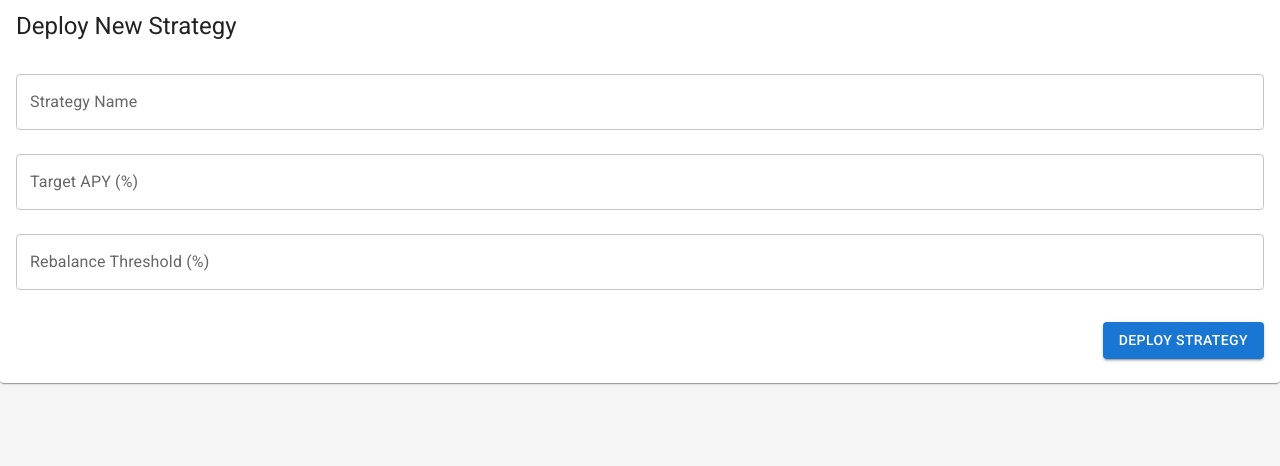
Test: Strategy Component › should validate numeric fields
This screenshot has width=1280, height=466.
In the field labelled "Strategy Name": {"x": 640, "y": 102} [16,74,1264,130], type "Test Strategy"
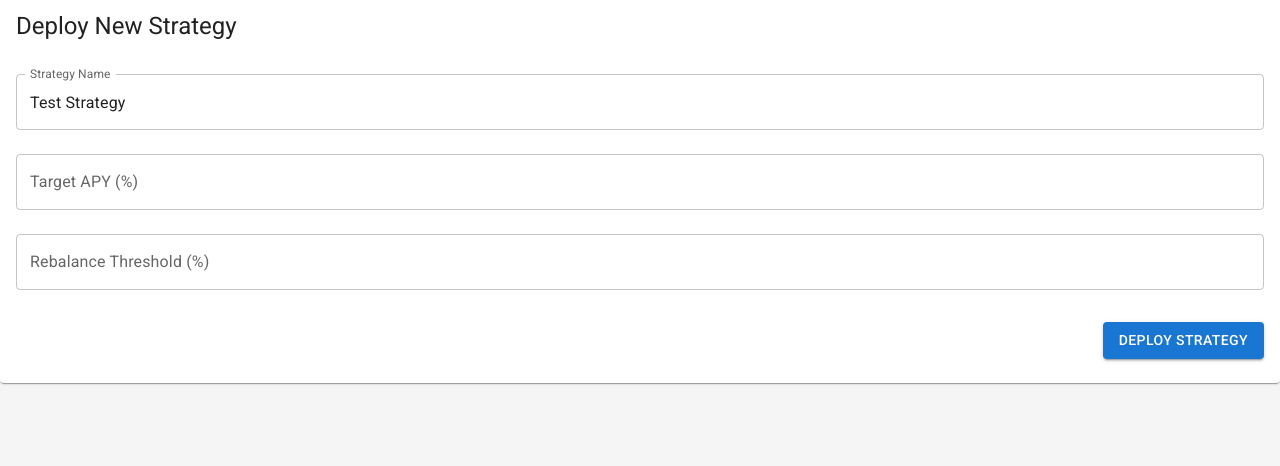
In the number field labelled "Target APY (%)": {"x": 640, "y": 182} [16,154,1264,210], type "-5"
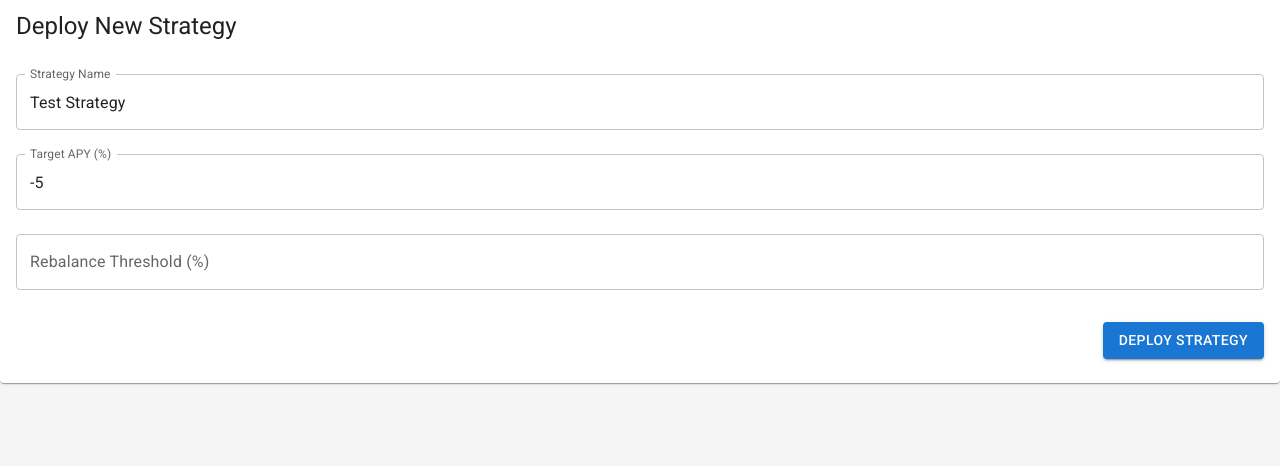
Click the button "Deploy Strategy": {"x": 1183, "y": 340} [1103,322,1264,358]
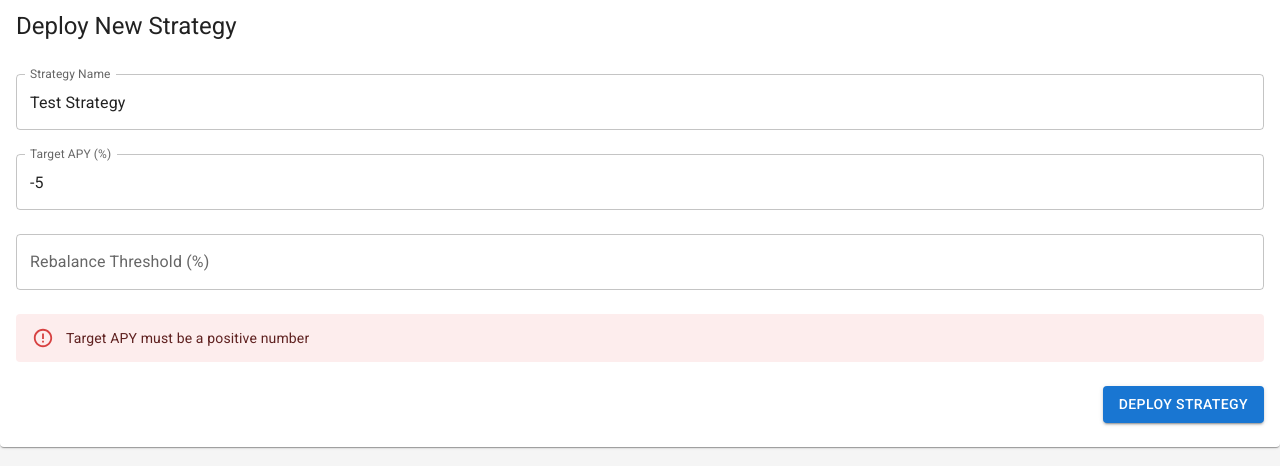
Expected: the text "Target APY must be a positive number" is shown, [66,330,309,346]
